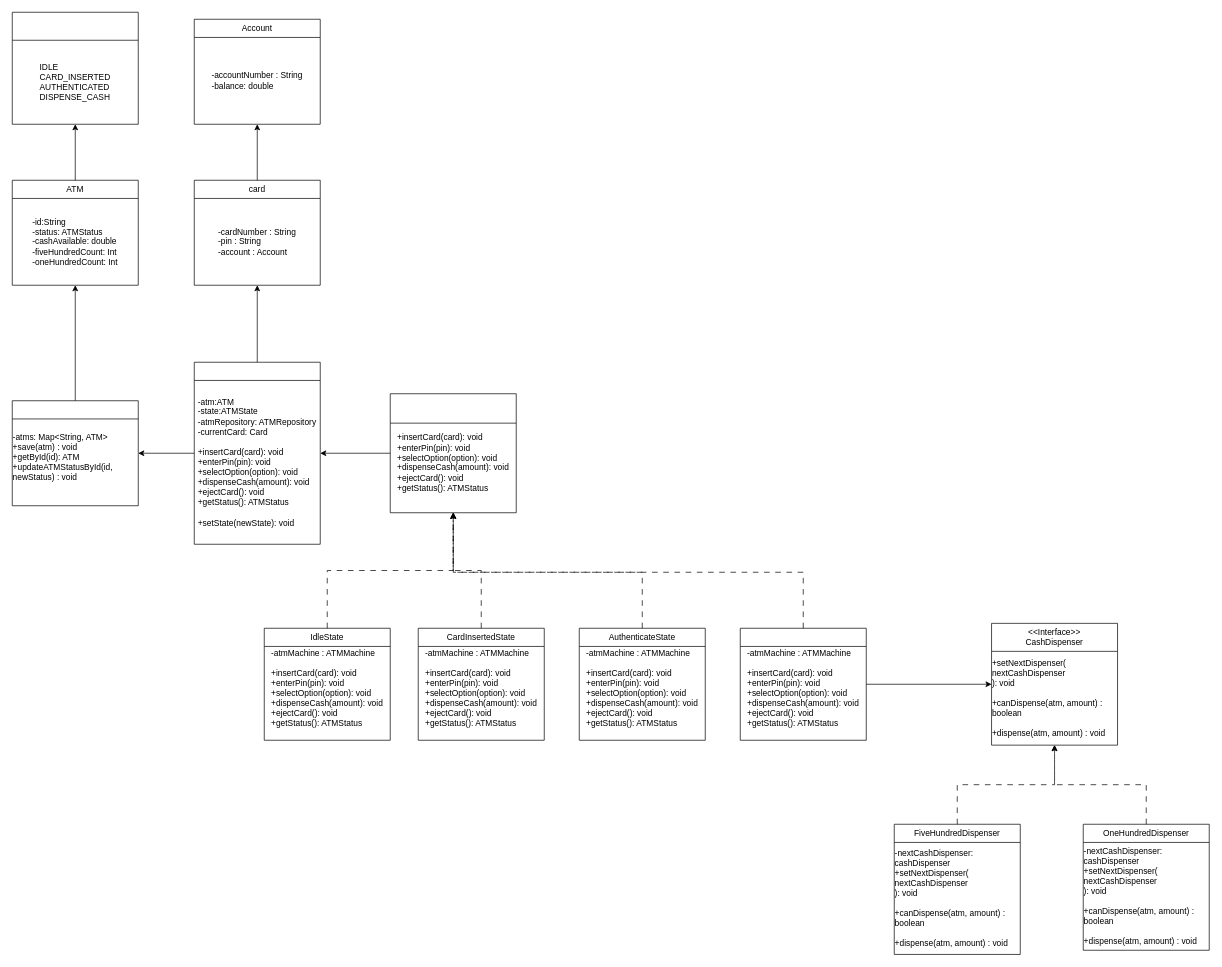
The diagram is 1222 pixels wide and 967 high, and some of its shapes have lost their labels. The box of each missing label's shape, as (x1, y1, x2, y2) in pixels:
<<enum>> ATMStatus: (12, 12, 138, 124)
<<Interface>> ATMState: (390, 393, 516, 513)
ATMMAcine: (194, 362, 320, 544)
ATMRepository: (12, 400, 138, 506)
DispenseCashState: (740, 628, 866, 740)
